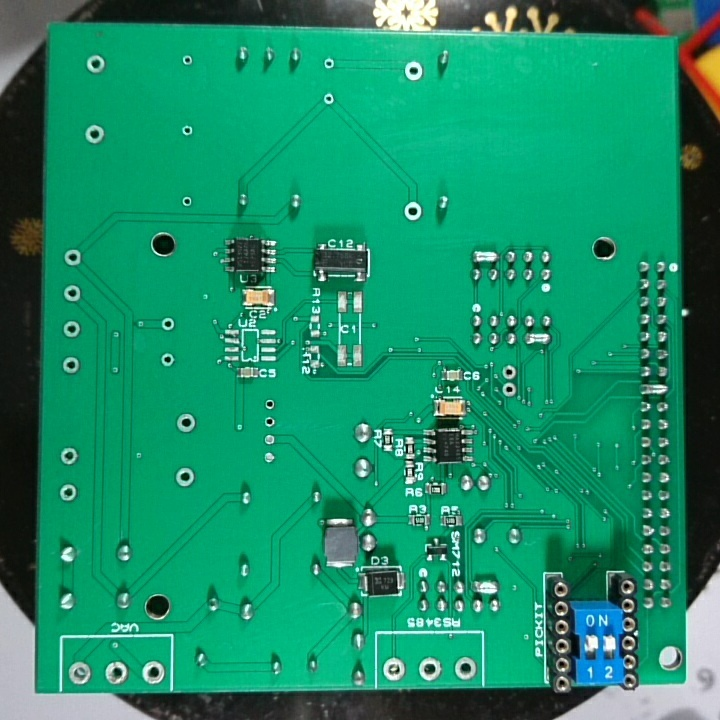F: (379, 655, 410, 683), (451, 655, 480, 683), (103, 660, 130, 689), (416, 656, 444, 683), (141, 658, 167, 686), (402, 59, 430, 84), (82, 52, 110, 77), (173, 411, 201, 436), (67, 661, 93, 686), (56, 480, 79, 506), (83, 122, 107, 146), (61, 284, 84, 307), (60, 318, 83, 341), (175, 466, 196, 491), (60, 355, 82, 378), (402, 200, 423, 223), (61, 247, 85, 267), (157, 314, 179, 334), (59, 446, 79, 466), (499, 380, 519, 400), (500, 362, 519, 383), (261, 430, 279, 449), (159, 351, 176, 370), (261, 449, 277, 469), (179, 193, 196, 211), (322, 90, 339, 107), (179, 51, 195, 69), (180, 123, 198, 139), (320, 56, 336, 72), (262, 413, 277, 429), (263, 397, 277, 414)
P: (521, 331, 553, 349), (639, 381, 672, 398), (470, 578, 499, 595), (470, 249, 498, 265)
